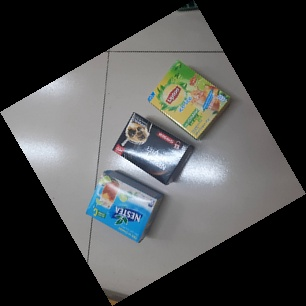CF Viet: (109, 112, 193, 187)
LipTon: (146, 59, 232, 139)
Nestea: (84, 171, 166, 242)
